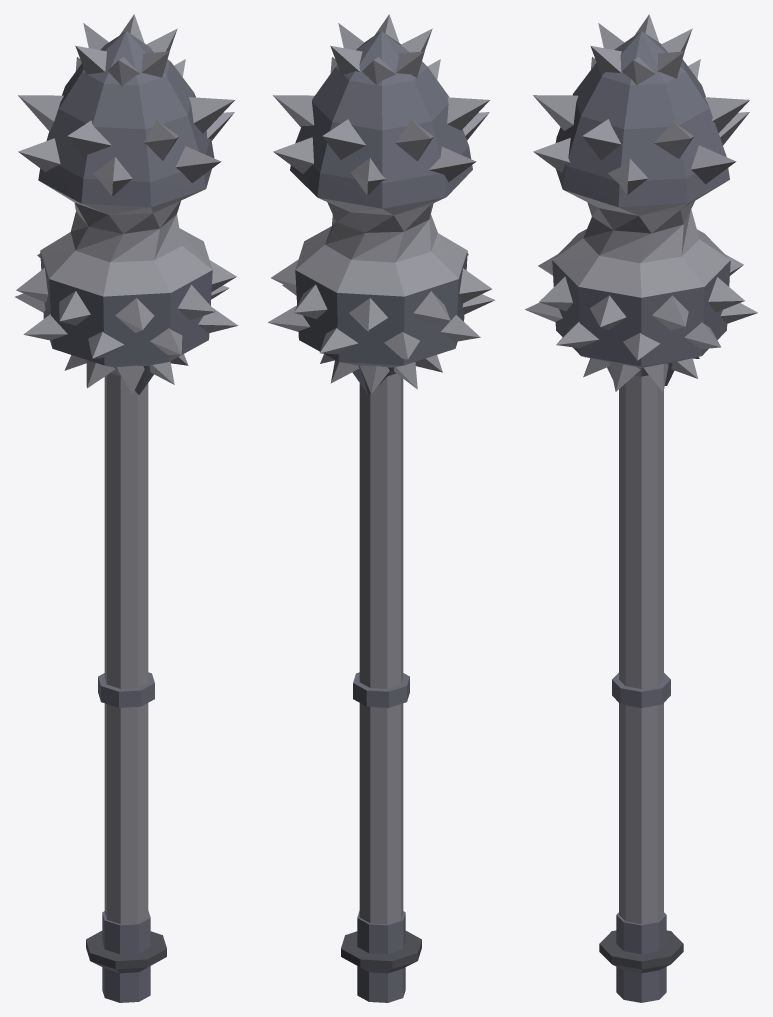
The model's file is _hammer_03.fbx.
3 views of the same model, side by side, from view 1: azimuth 30°, elevation 25°; view 2: azimuth 150°, elevation 25°; view 3: azimuth 270°, elevation 25° (orthographic).
Visible parts, largest first — view 1: hammer_03; view 2: hammer_03; view 3: hammer_03.
Part boxes in pixels (<box>): hammer_03: <box>15,14,238,1002</box>; hammer_03: <box>268,14,495,1002</box>; hammer_03: <box>525,14,757,1002</box>.
Bounding box in the file's own units: 17.58 × 79.3 × 17.5.
